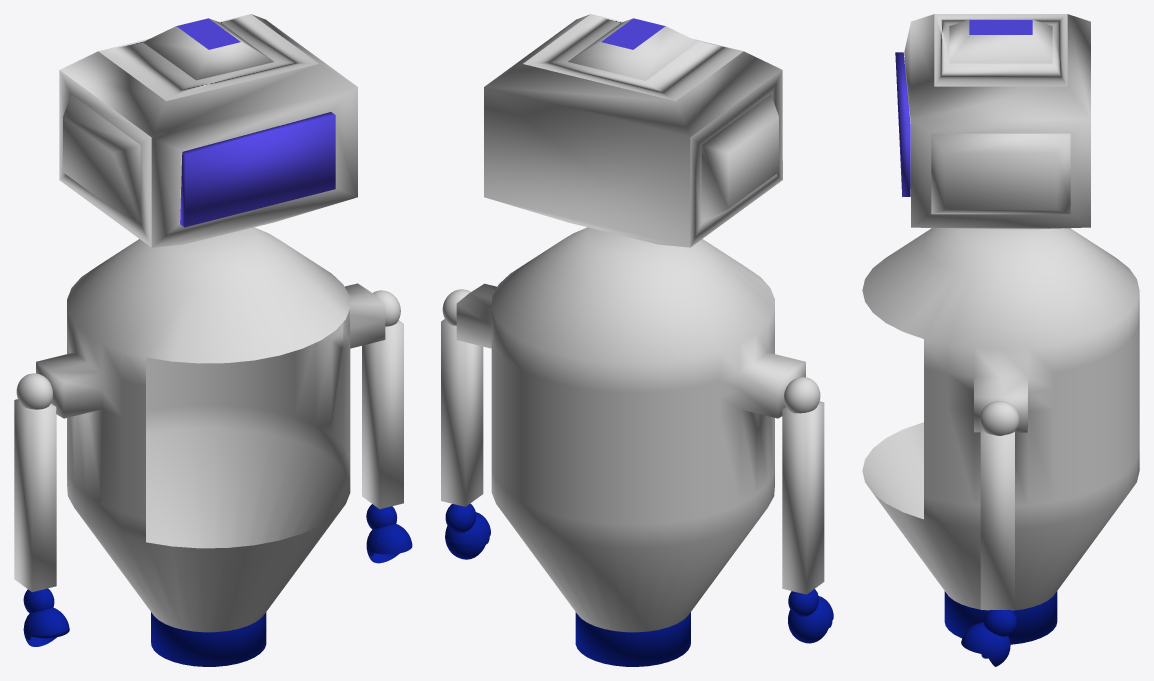
The model's file is robot.fbx.
The picture shows the model from 3 angles, left to right: view 1: azimuth 30°, elevation 25°; view 2: azimuth 150°, elevation 25°; view 3: azimuth 270°, elevation 25°; orthographic projection. The views are drawn at different scales.
Visible parts, largest first — view 1: Body; view 2: Body; view 3: Body.
Boxes of the visible parts, box(x1,y1,x2,y2) form: Body: box(14, 14, 412, 666); Body: box(441, 14, 833, 666); Body: box(862, 14, 1139, 666).
Bounding box in the file's own units: 310 × 473 × 200.
